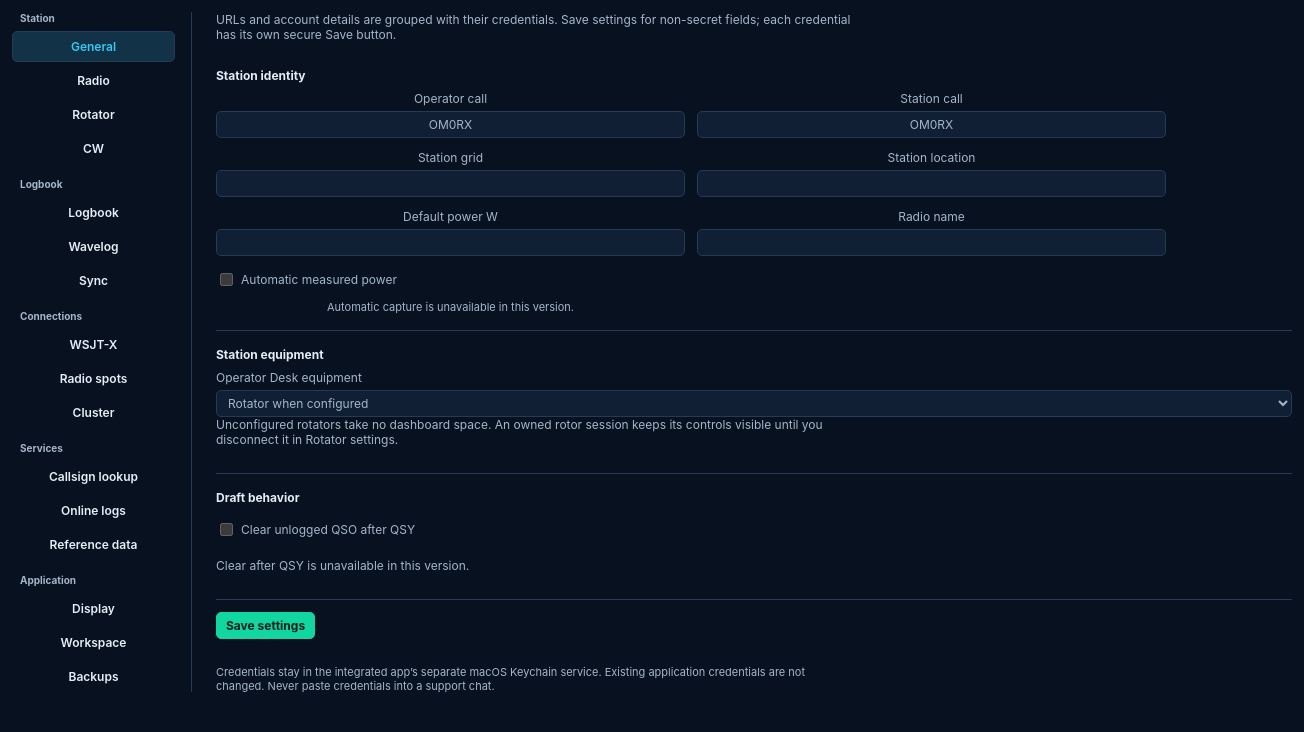
Test: grouped service settings › puts rotator settings in their own tab without applying a connection change
Click the tab "Rotator": coordinates (94, 114) top-left (12, 99), bottom-right (175, 130)
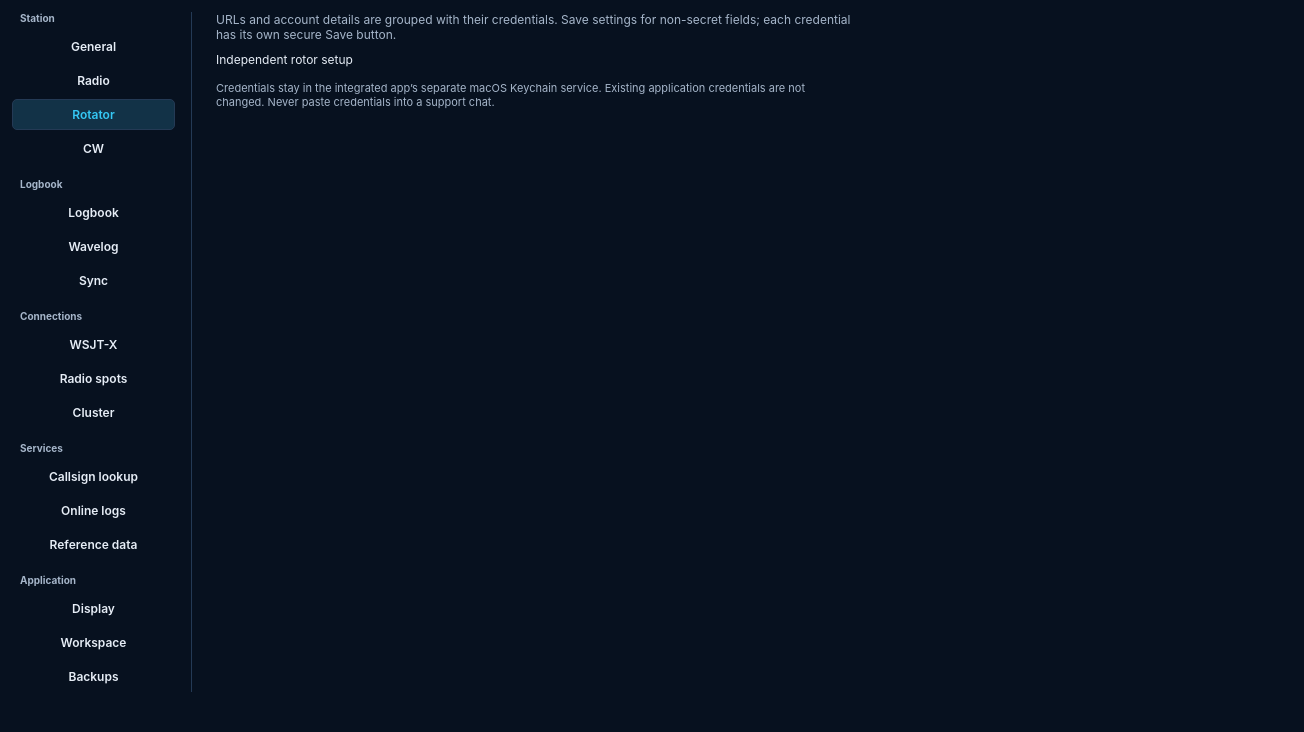
Expected: the panel named "Rotator" shows "Independent rotor setup", top-left (216, 52), bottom-right (353, 67)
